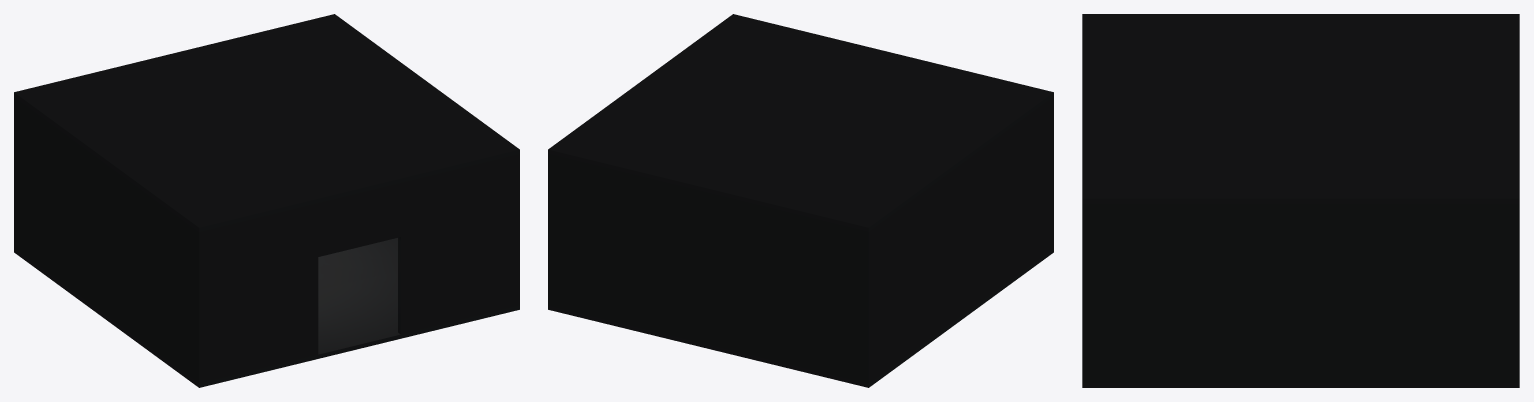
The model's file is WT_Training_Room_30x30.glb.
The picture shows the model from 3 angles, left to right: view 1: azimuth 30°, elevation 25°; view 2: azimuth 150°, elevation 25°; view 3: azimuth 270°, elevation 25°; orthographic projection. The views are drawn at different scales.
Visible parts, largest first — view 1: Ceiling_Shell, Wall_Left, Wall_Rear_Right, Wall_Rear_Left, Floor, Entry_Header, Wall_Right; view 2: Ceiling_Shell, Wall_Front, Wall_Left, Floor, Wall_Right; view 3: Ceiling_Shell, Wall_Right, Floor.
Boxes of the visible parts, x1=… form: Ceiling_Shell: x1=14, y1=14, x2=519, y2=231; Wall_Left: x1=14, y1=97, x2=204, y2=383; Wall_Rear_Right: x1=398, y1=155, x2=514, y2=334; Wall_Rear_Left: x1=204, y1=203, x2=318, y2=382; Floor: x1=14, y1=238, x2=519, y2=387; Entry_Header: x1=318, y1=183, x2=400, y2=256; Wall_Right: x1=515, y1=154, x2=519, y2=306; Ceiling_Shell: x1=548, y1=14, x2=1053, y2=231; Wall_Front: x1=553, y1=155, x2=863, y2=382; Wall_Left: x1=863, y1=97, x2=1053, y2=383; Floor: x1=548, y1=248, x2=1053, y2=387; Wall_Right: x1=548, y1=154, x2=552, y2=306; Ceiling_Shell: x1=1082, y1=14, x2=1519, y2=203; Wall_Right: x1=1082, y1=204, x2=1519, y2=382; Floor: x1=1082, y1=383, x2=1519, y2=387.
Bounding box in the file's own units: 9.44 × 4.51 × 9.44.
Materials: 29 (23 with a texture image).
